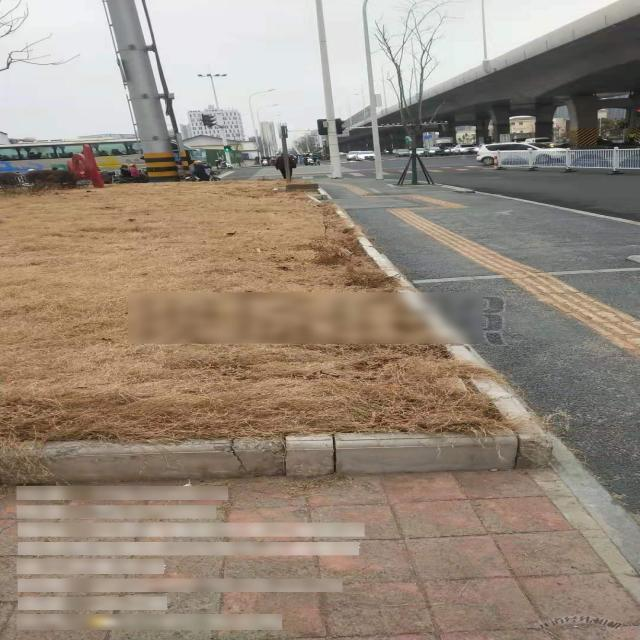Good: (322, 194, 438, 209)
